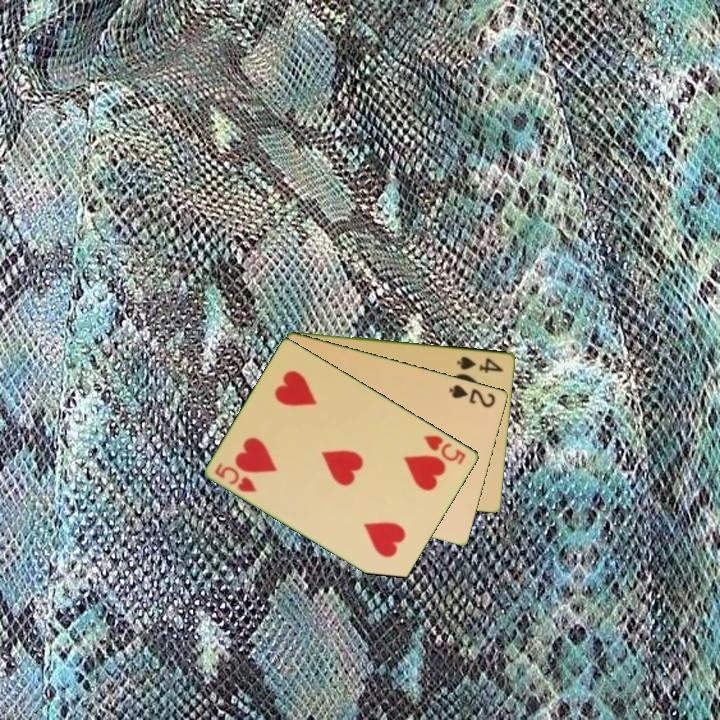2s: (446, 381, 499, 410)
4s: (454, 353, 506, 376)
5h: (421, 431, 469, 468), (211, 459, 260, 495)
